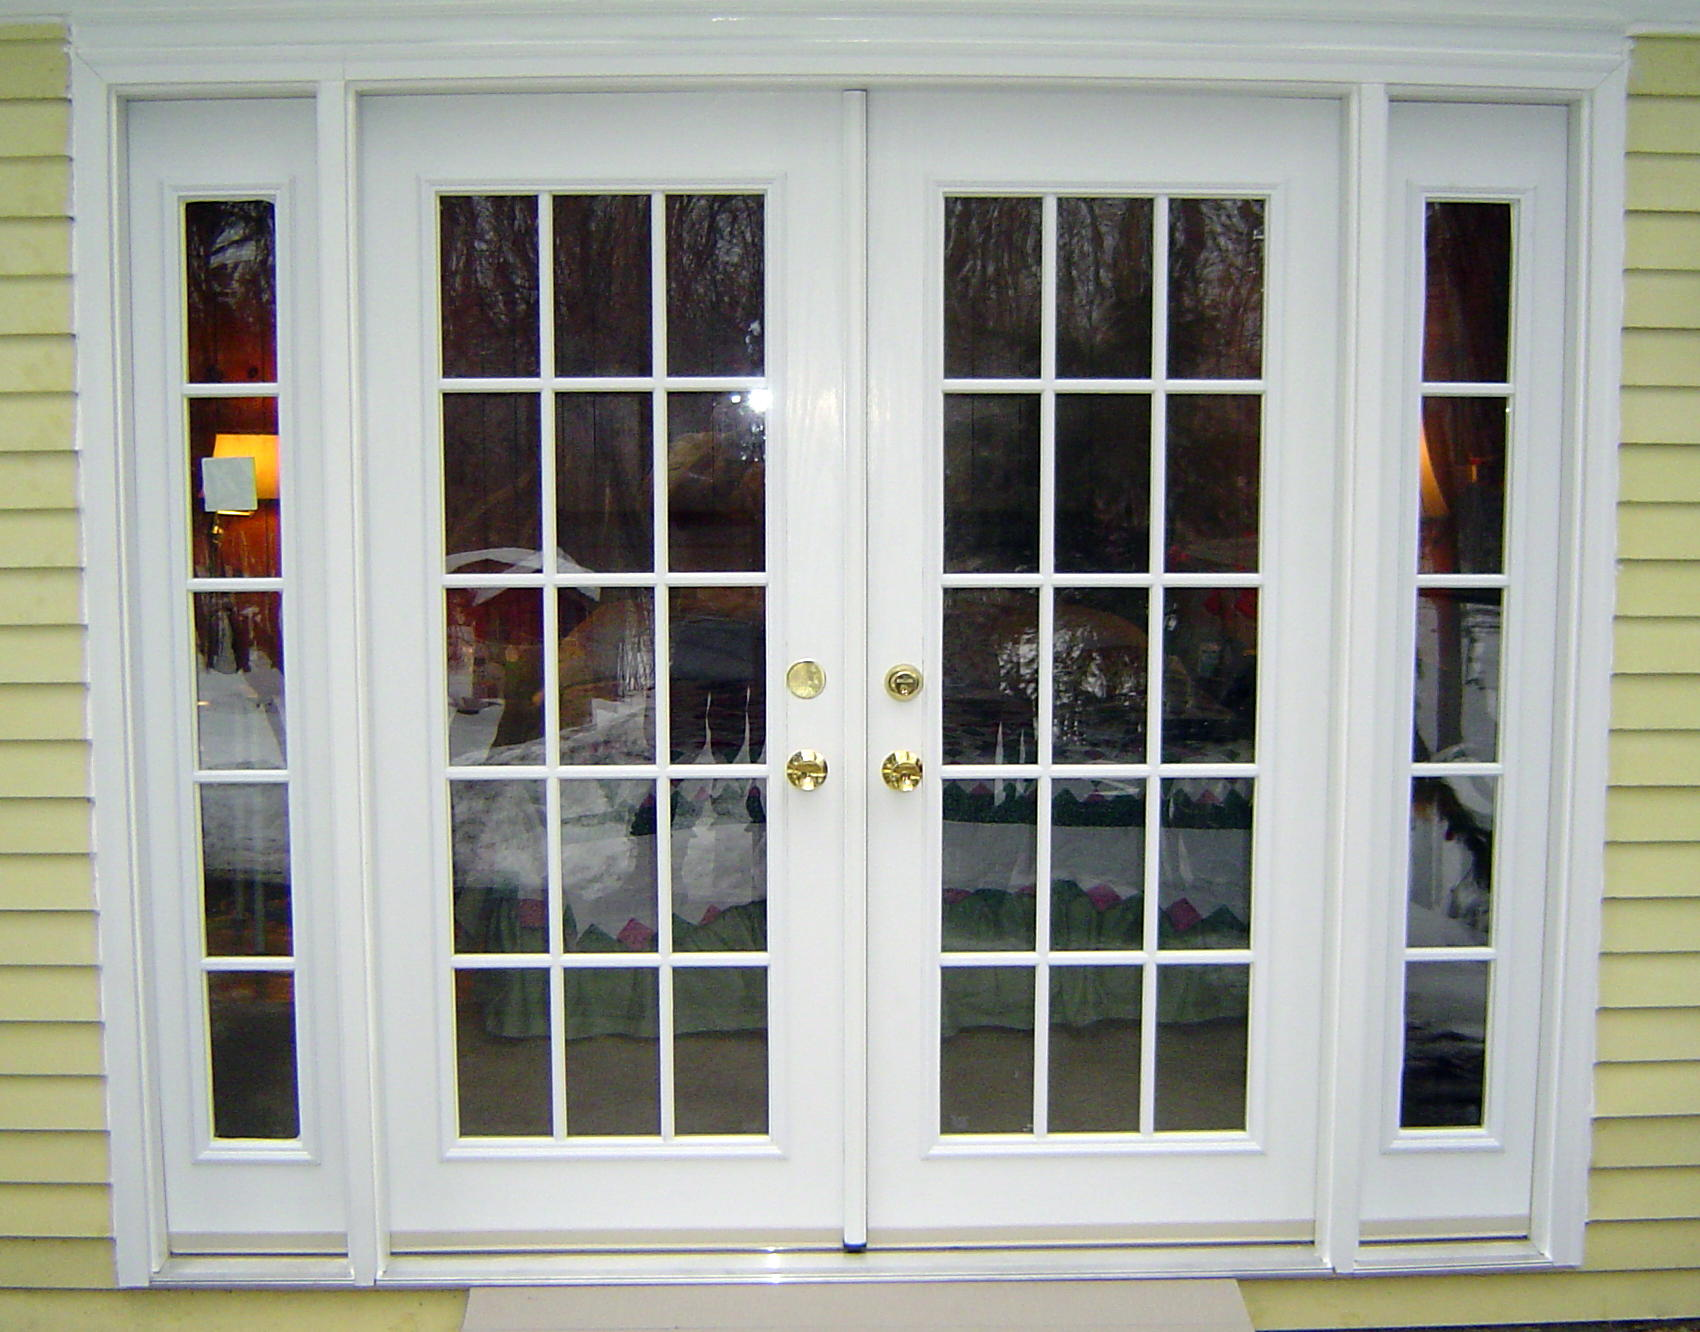windows: (113, 88, 1539, 1248)
